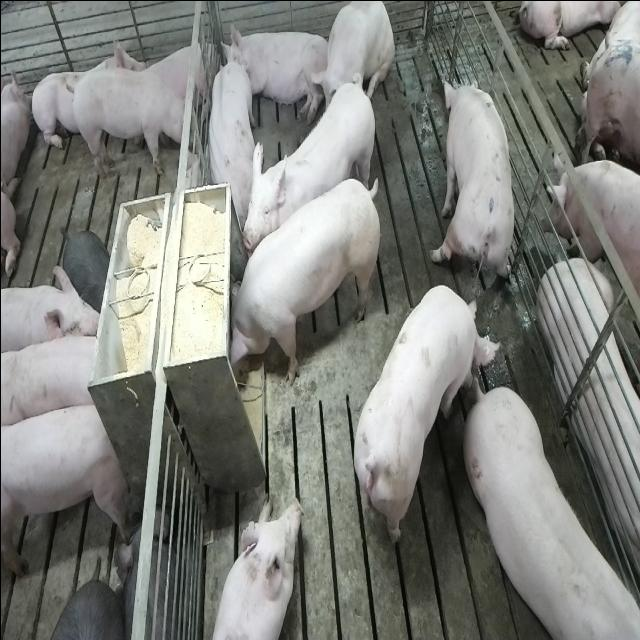Feeding: (219, 173, 376, 394)
Lateral_lying: (539, 214, 640, 592), (224, 22, 329, 128)
Sitting: (309, 2, 394, 132)
Standing: (466, 383, 640, 639), (346, 286, 494, 550), (242, 78, 381, 260), (1, 396, 130, 578), (431, 74, 516, 296), (547, 157, 640, 323), (67, 66, 195, 177), (3, 327, 109, 431), (0, 264, 104, 356)
Sternal_lying: (31, 29, 146, 157), (206, 494, 304, 640), (202, 46, 255, 224), (141, 34, 213, 119)
